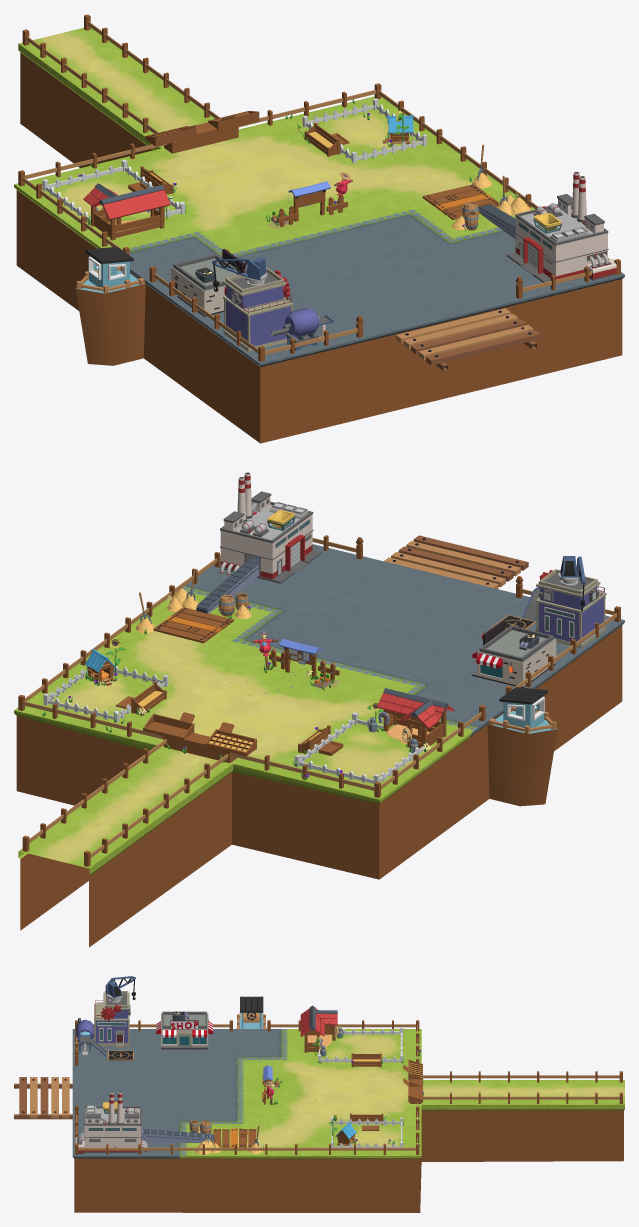
The model's file is env.FBX.
3 views of the same model, one above another, from view 1: azimuth 30°, elevation 25°; view 2: azimuth 150°, elevation 25°; view 3: azimuth 270°, elevation 25° (orthographic). The views are drawn at different scales.
Visible parts, largest first — view 1: Platform_Top, Object017, Platform_Fence, 1__Factory_ThirdColor, object_1, Platform_Sides, Building_Bridge_1, Object014, object_0, Object015, Building_Upgrade, Object021 (+6 smaller); view 2: Platform_Top, Object017, Platform_Fence, 1__Factory_ThirdColor, object_1, Platform_Sides, Building_Bridge_1, object_0, Object014, Object015, Building_Upgrade, Object009 (+7 smaller); view 3: Platform_Top, Object017, Platform_Fence, 1__Factory_ThirdColor, object_1, Building_Bridge_1, object_0, Object014, Building_Upgrade, Hay_Stack_2, Object009, Object015 (+3 smaller).
Boxes of the visible parts, bbox=[...] form: Platform_Top: bbox=[14, 27, 624, 367]; Object017: bbox=[16, 52, 622, 443]; Platform_Fence: bbox=[18, 14, 620, 361]; 1__Factory_ThirdColor: bbox=[506, 171, 616, 285]; object_1: bbox=[212, 257, 333, 351]; Platform_Sides: bbox=[75, 284, 145, 365]; Building_Bridge_1: bbox=[396, 308, 540, 370]; Object014: bbox=[83, 183, 170, 240]; object_0: bbox=[171, 248, 245, 316]; Object015: bbox=[145, 111, 259, 153]; Building_Upgrade: bbox=[76, 246, 144, 293]; Object021: bbox=[302, 98, 427, 163]; Platform_Top: bbox=[14, 544, 624, 875]; Object017: bbox=[16, 604, 622, 947]; Platform_Fence: bbox=[18, 535, 620, 866]; 1__Factory_ThirdColor: bbox=[219, 472, 321, 583]; object_1: bbox=[522, 556, 606, 648]; Platform_Sides: bbox=[487, 724, 557, 806]; Building_Bridge_1: bbox=[384, 535, 528, 588]; object_0: bbox=[471, 620, 556, 687]; Object014: bbox=[368, 688, 454, 753]; Object015: bbox=[143, 712, 256, 762]; Building_Upgrade: bbox=[488, 687, 557, 733]; Object009: bbox=[153, 607, 233, 643]; Platform_Top: bbox=[72, 1029, 624, 1158]; Object017: bbox=[74, 1110, 623, 1212]; Platform_Fence: bbox=[74, 1020, 622, 1154]; 1__Factory_ThirdColor: bbox=[75, 1092, 148, 1154]; object_1: bbox=[76, 976, 135, 1056]; Building_Bridge_1: bbox=[14, 1077, 72, 1119]; object_0: bbox=[156, 1011, 212, 1049]; Object014: bbox=[300, 1005, 343, 1056]; Building_Upgrade: bbox=[236, 996, 266, 1028]; Hay_Stack_2: bbox=[142, 1129, 214, 1142]; Object009: bbox=[213, 1128, 256, 1147]; Object015: bbox=[403, 1059, 422, 1103].
Bounding box in the file's own units: 3259 × 1191 × 5720.
